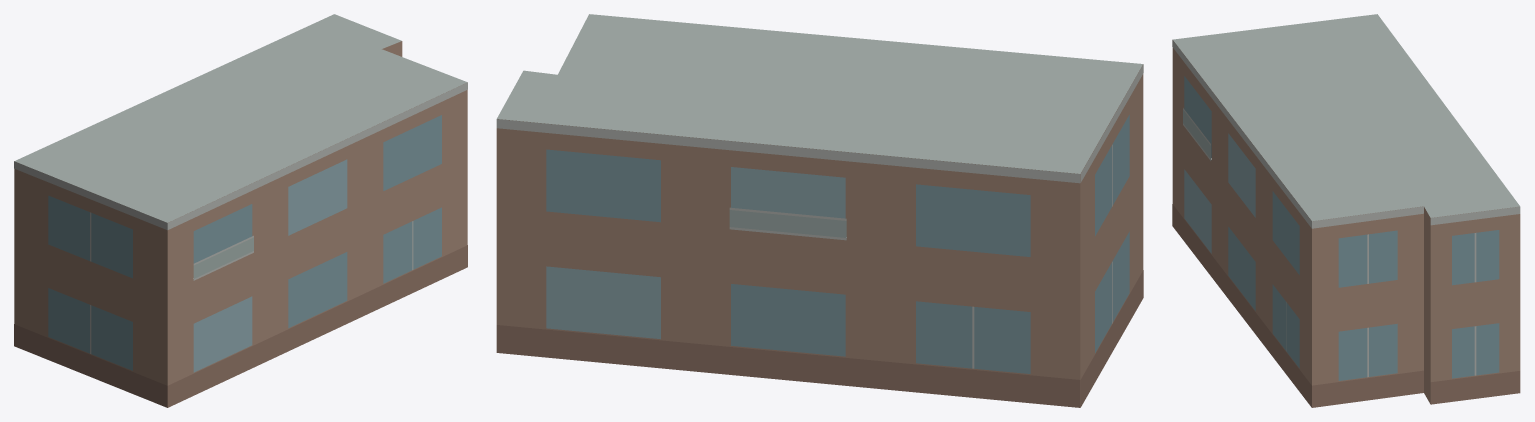
File: survey-upis-33030642.glb
The picture shows the model from 3 angles, left to right: view 1: azimuth 30°, elevation 25°; view 2: azimuth 150°, elevation 25°; view 3: azimuth 270°, elevation 25°; orthographic projection. The views are drawn at different scales.
Parts seen in each view (by area): view 1: survey-upis-33030642.tmp; view 2: survey-upis-33030642.tmp; view 3: survey-upis-33030642.tmp.
Part boxes in pixels (x1,y1,x2,y2): survey-upis-33030642.tmp: (14, 14, 467, 407); survey-upis-33030642.tmp: (496, 14, 1143, 407); survey-upis-33030642.tmp: (1172, 14, 1520, 407).
Size of the model in its own units: 14.54 by 6.1 by 10.31.
